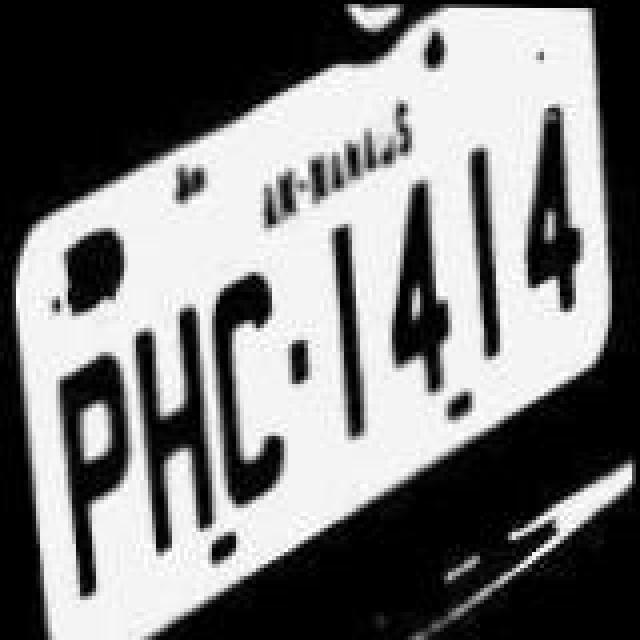1: (322, 224, 382, 456), (458, 138, 510, 374)
4: (514, 92, 598, 336), (378, 174, 462, 398)
C: (214, 264, 294, 516)
H: (136, 268, 220, 556)
P: (48, 326, 136, 614)
